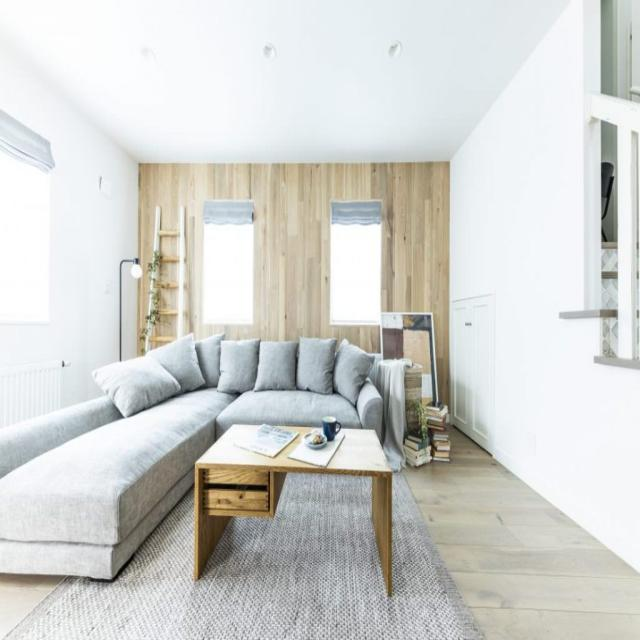natural desk: (193, 422, 392, 596)
natural sofa: (137, 333, 386, 427)
